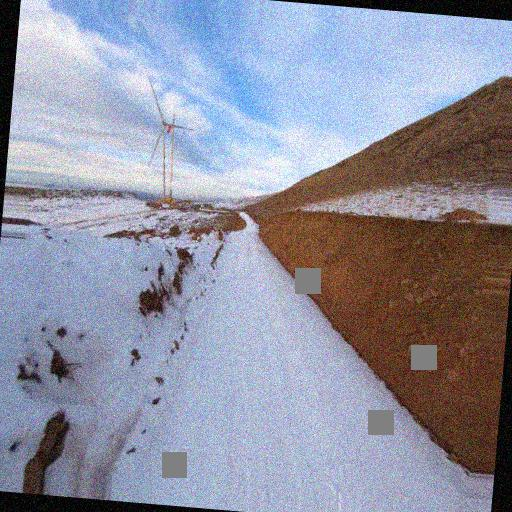wind turbine: (142, 77, 195, 207)
